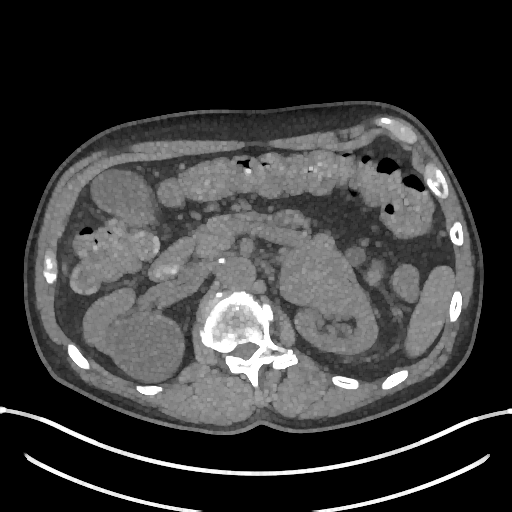Lesion: (278, 241, 357, 309)
